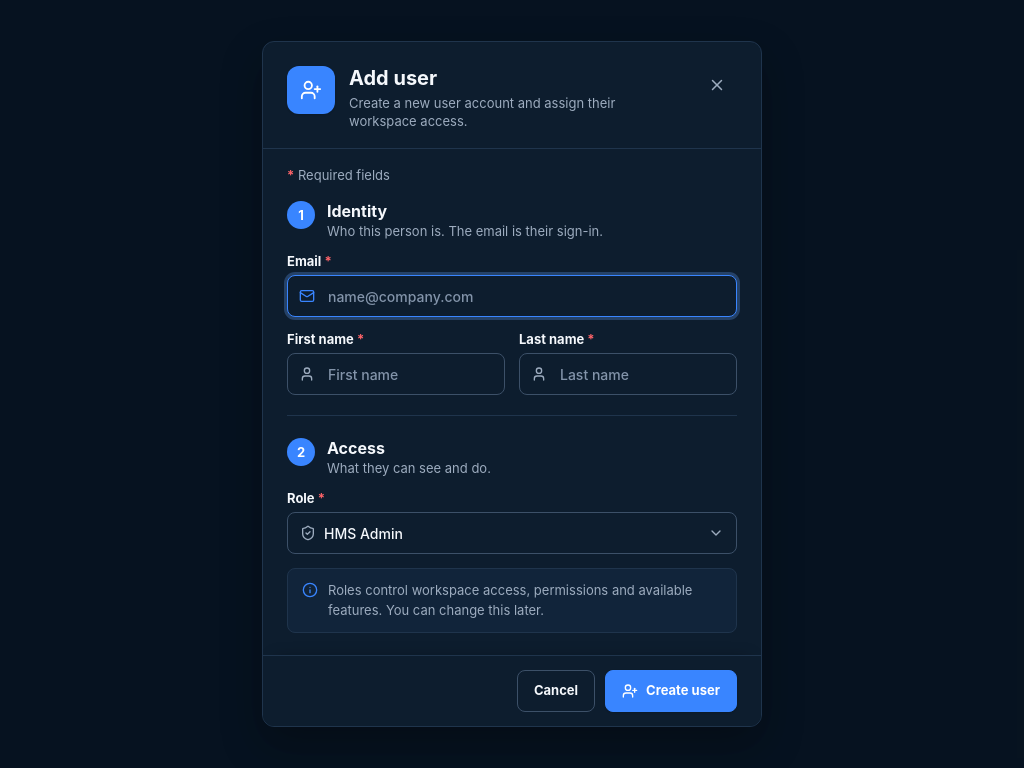
Test case: UserAdminDialog › does not show a customer selector for non-customer roles
The image size is (1024, 768).
What coordinates should you click on to do the following:
click the dropdown named "Role"
I would click on:
 (363, 533)
Its box is [287,512,737,554].
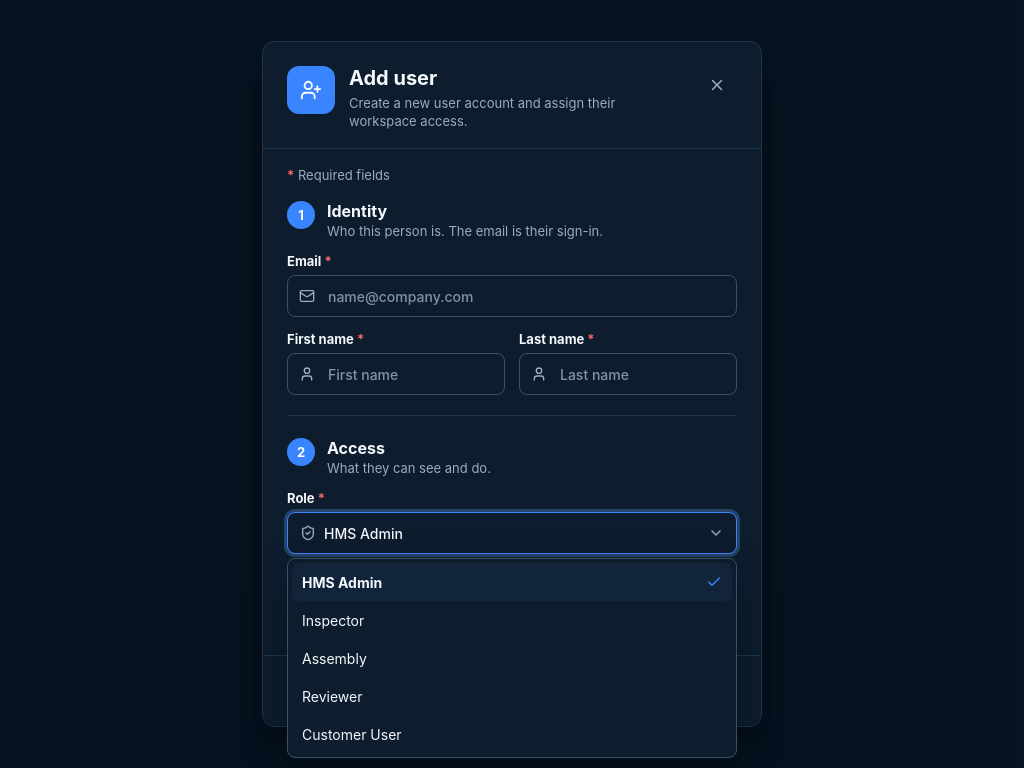
What coordinates should you click on to do the following:
click the option "Inspector"
I would click on:
 (333, 620)
Its box is [302,612,364,629].
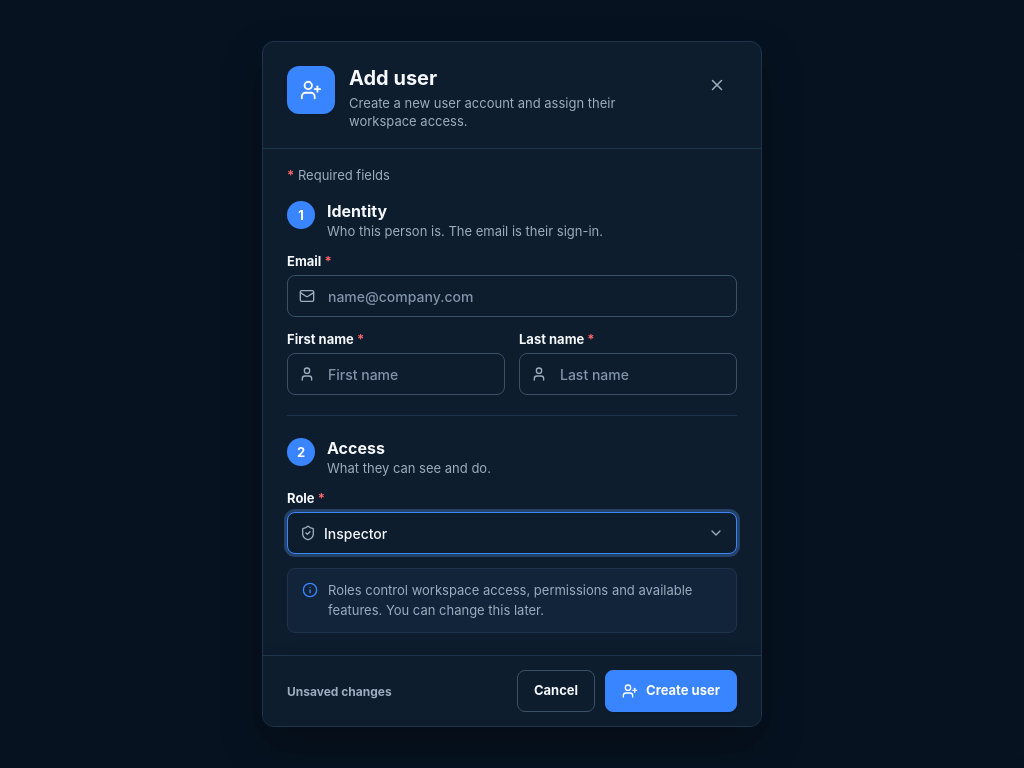
Expected: the option labelled "Customer" is gone
